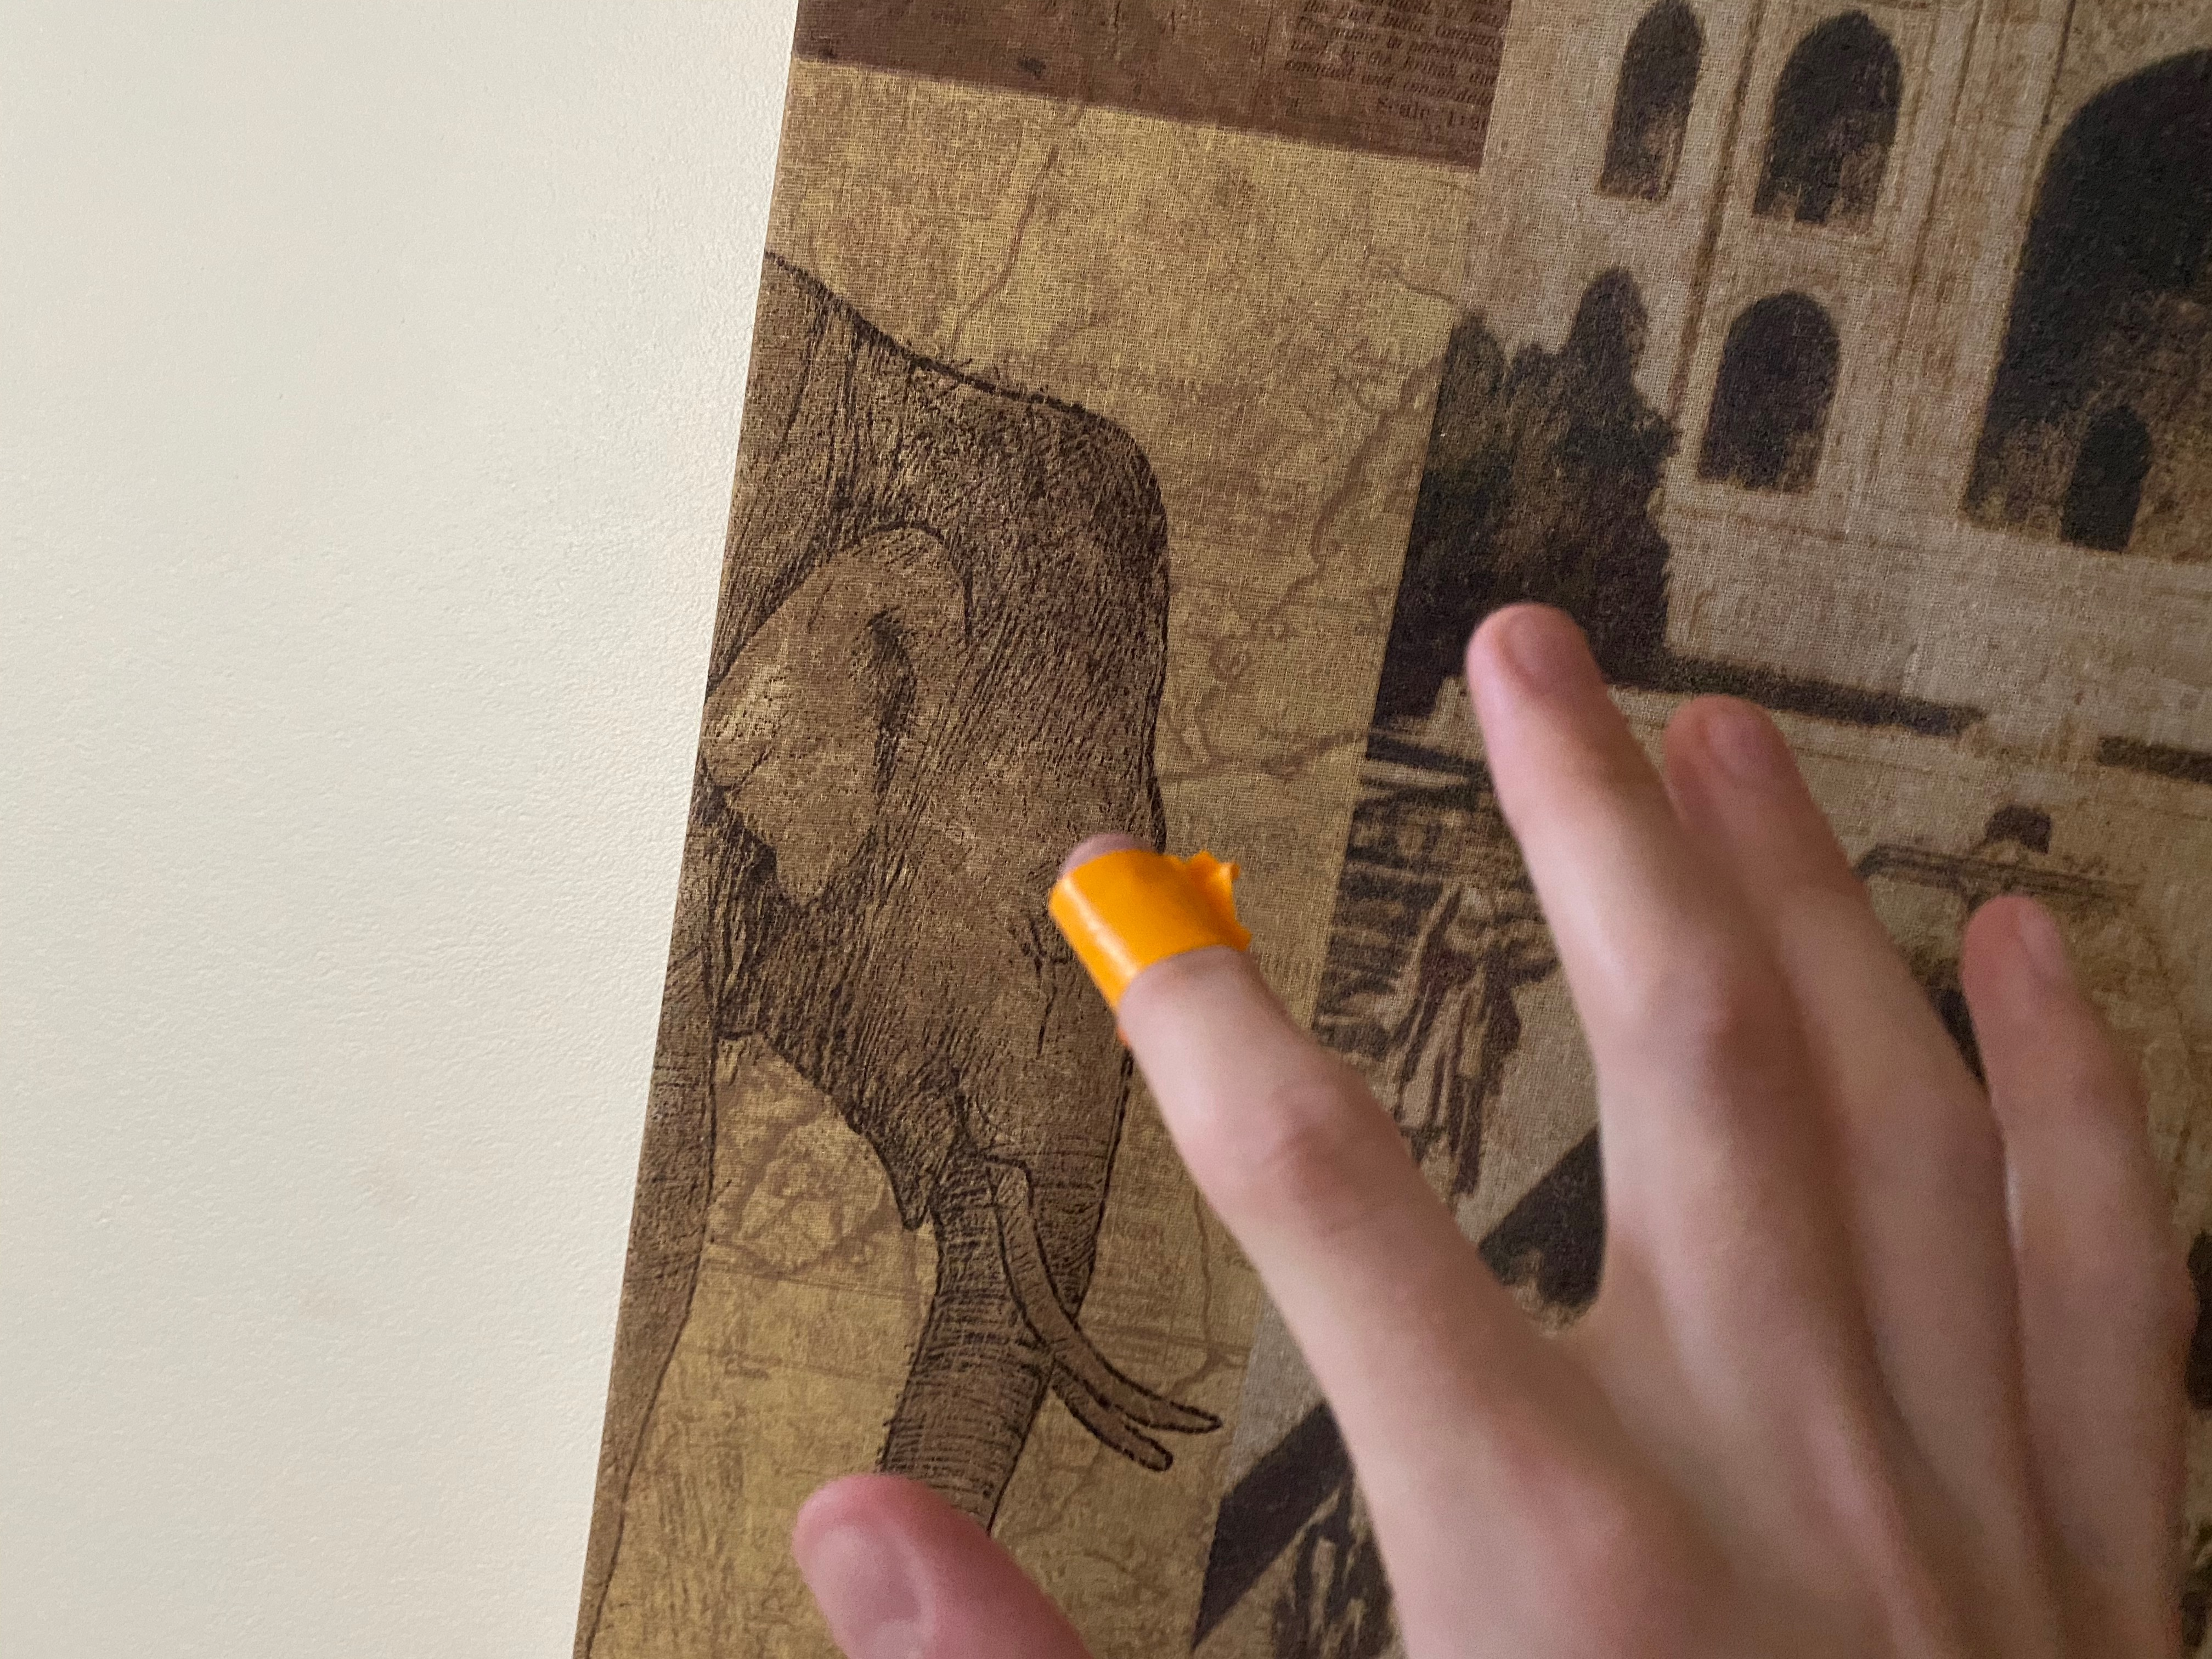fingertip: (1021, 824, 1264, 1042)
